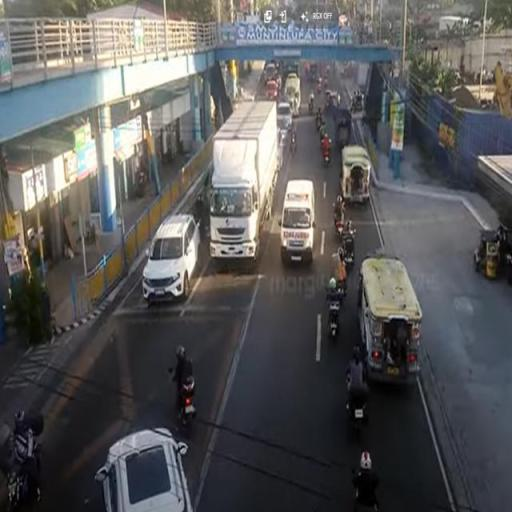Police car: (279, 178, 317, 268)
